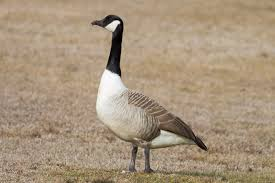goose: (89, 13, 210, 177)
